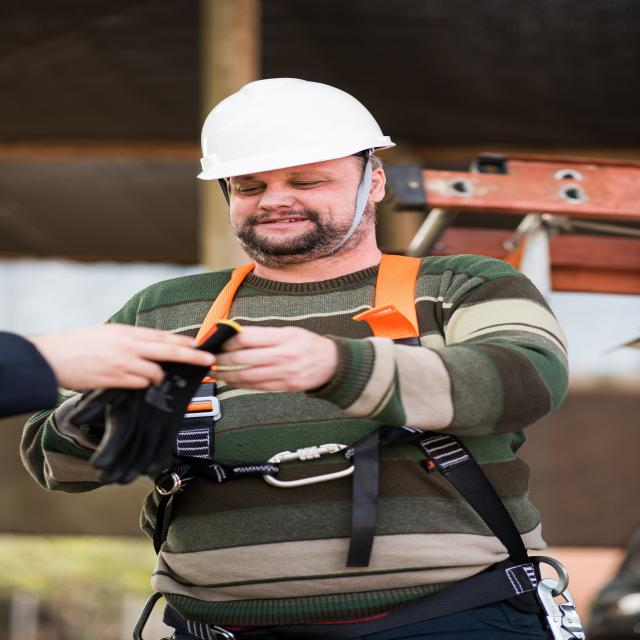capacete: (190, 74, 404, 184)
corda de vida: (114, 248, 585, 640)
